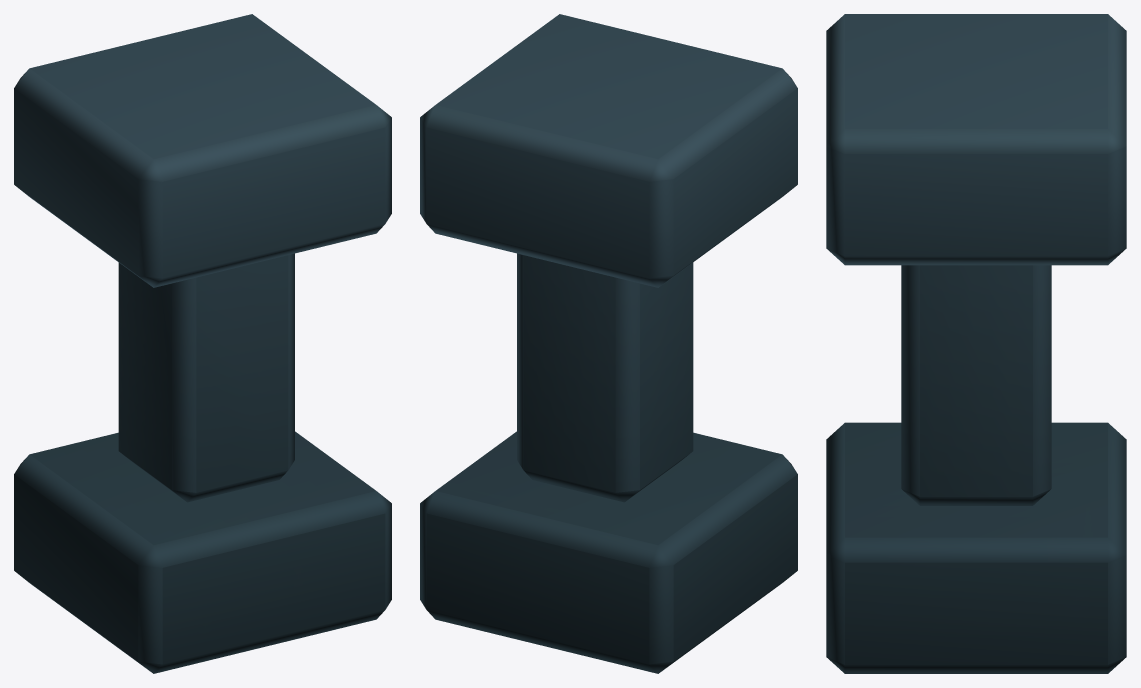
The model's file is fence_01_half_hue_4.fbx.
The picture shows the model from 3 angles, left to right: view 1: azimuth 30°, elevation 25°; view 2: azimuth 150°, elevation 25°; view 3: azimuth 270°, elevation 25°; orthographic projection. The views are drawn at different scales.
Visible parts, largest first — view 1: fence_01_half_hue_4; view 2: fence_01_half_hue_4; view 3: fence_01_half_hue_4.
Boxes of the visible parts, bbox=[...] form: fence_01_half_hue_4: bbox=[14, 14, 391, 673]; fence_01_half_hue_4: bbox=[420, 14, 797, 673]; fence_01_half_hue_4: bbox=[826, 14, 1126, 673].
Size of the model in its own units: 51.56 by 100 by 50.
